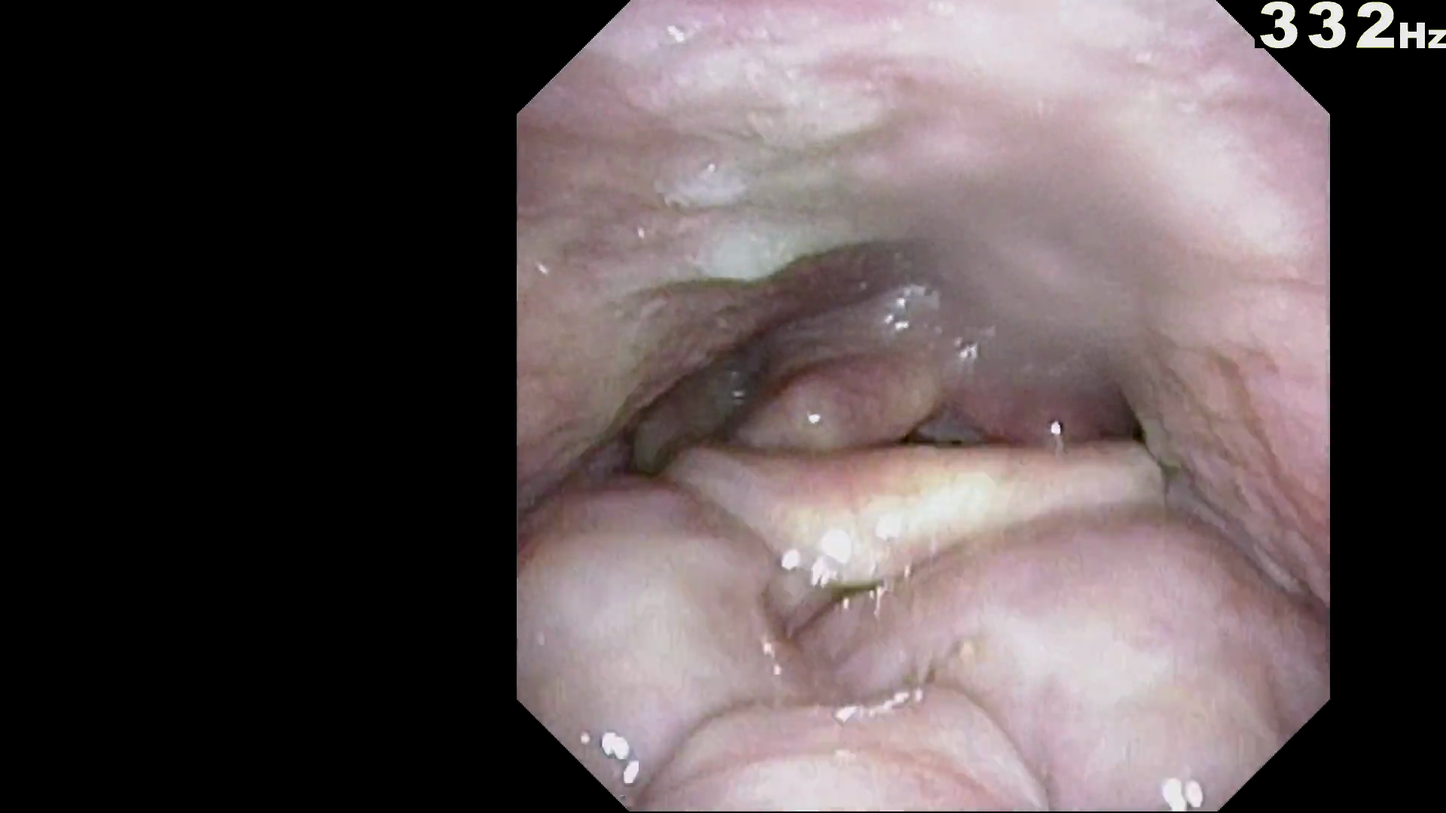epiglottis: (642, 440, 1143, 581)
trachea: (859, 417, 982, 514)
